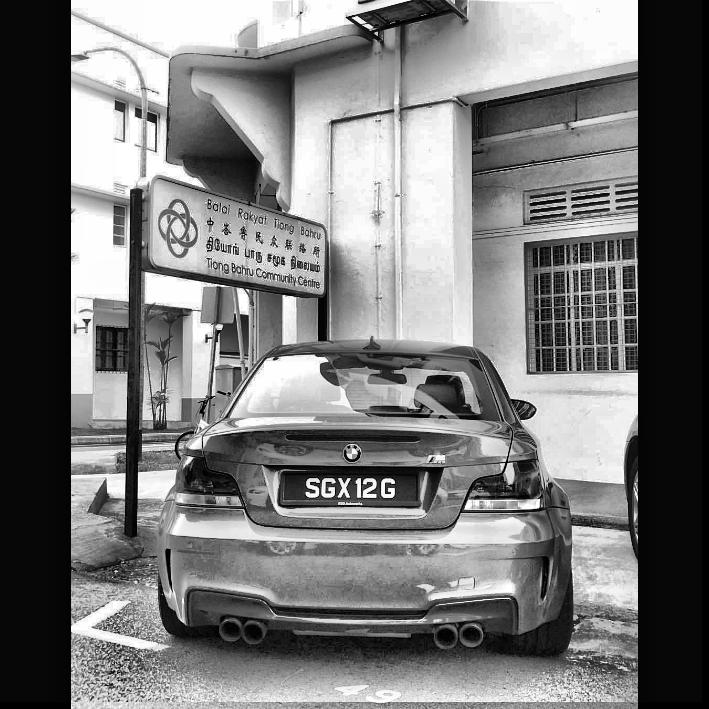License-Plates: (284, 473, 416, 501)
